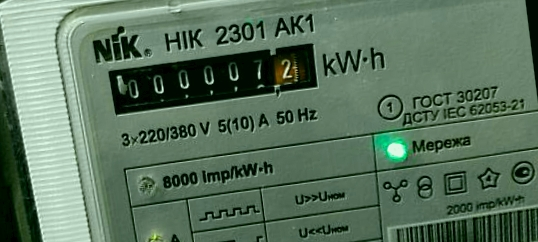0: (125, 76, 142, 101), (201, 63, 218, 88), (176, 67, 192, 92), (226, 59, 241, 84), (151, 73, 166, 96)
2: (279, 57, 294, 81)
7: (251, 56, 266, 82)
screen: (96, 32, 330, 125)
